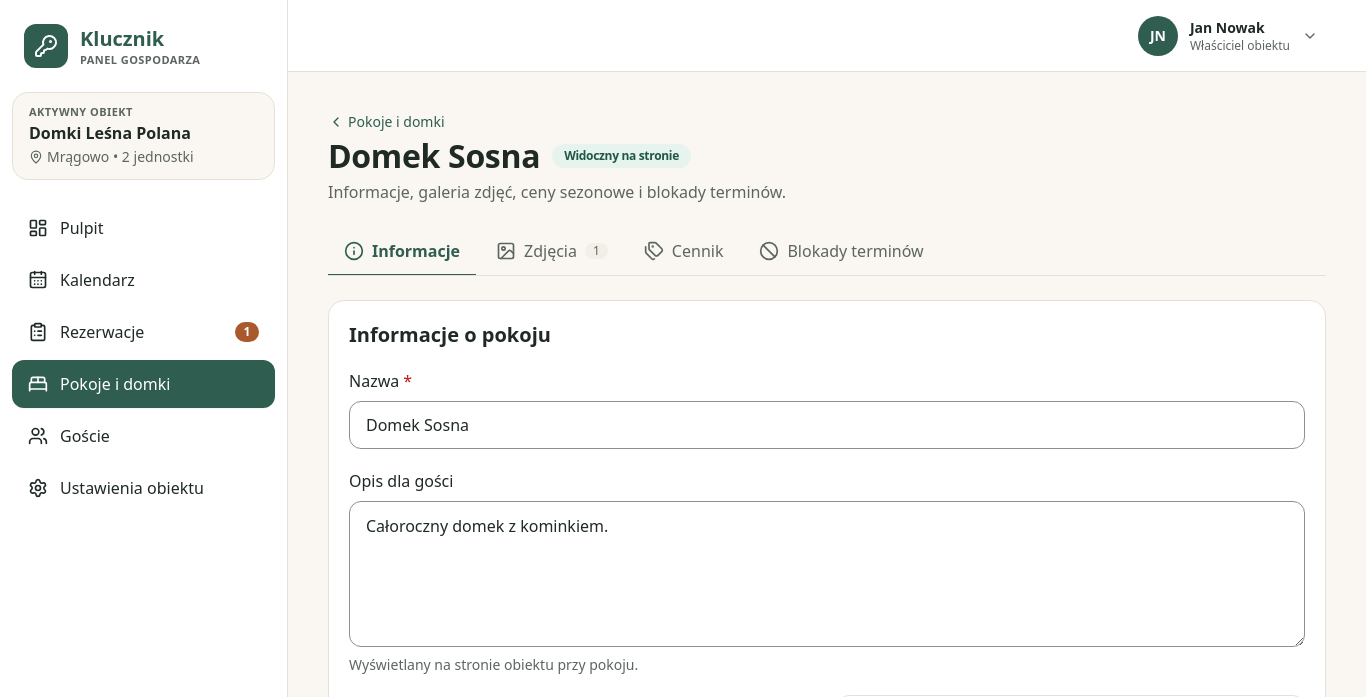
Test: RoomEditPage (O7) › tabs live in the URL; unknown tab → Informacje
expect the heading "Informacje o pokoju" is shown: met, box [349,321,551,348]
Click the tab "Cennik" at (684, 252), box [628,228,740,276]
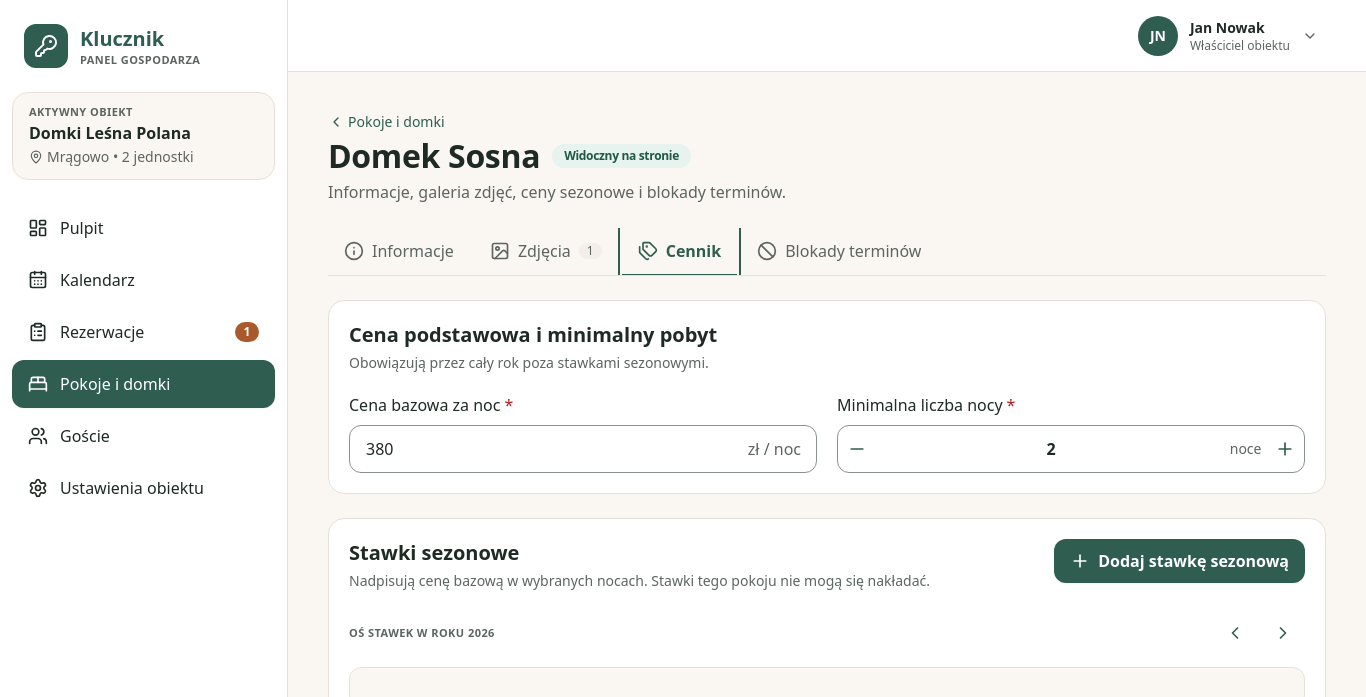
expect the heading "Stawki sezonowe" is shown: met, box [349,539,519,566]
